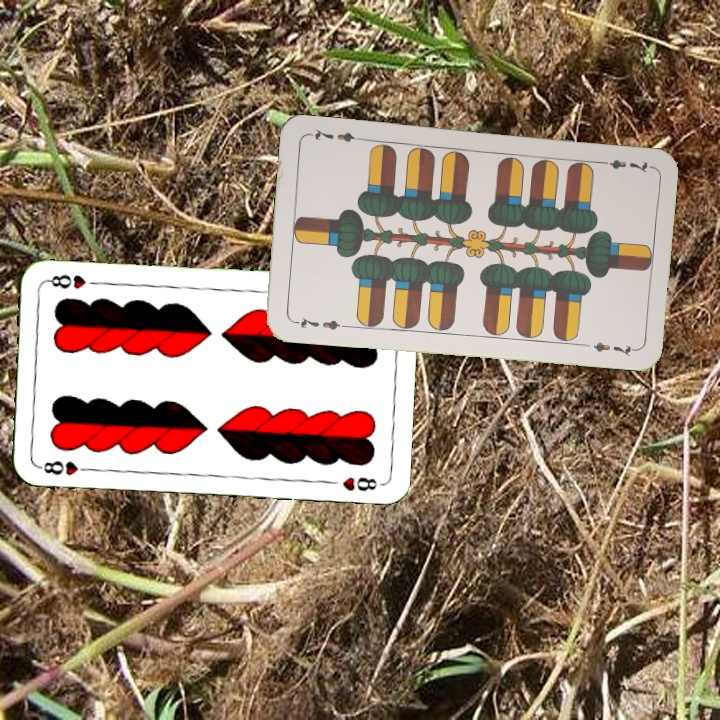E7: (289, 313, 348, 333), (593, 155, 652, 175)
H8: (35, 457, 94, 478)
